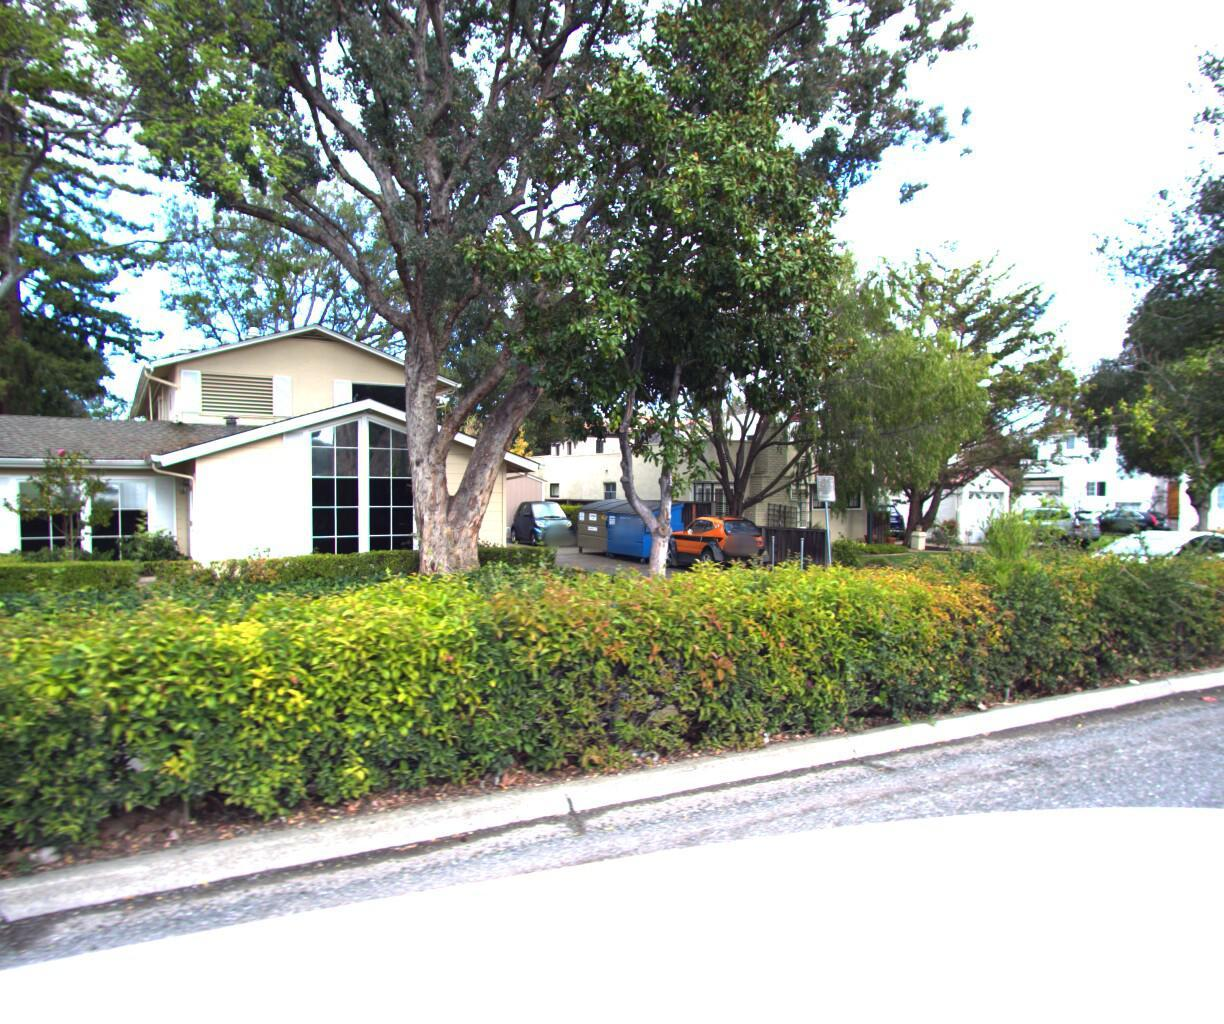car: (1056, 525, 1224, 615), (647, 511, 780, 579), (976, 506, 1111, 550), (805, 502, 914, 544), (505, 501, 578, 549), (1075, 511, 1179, 541)
